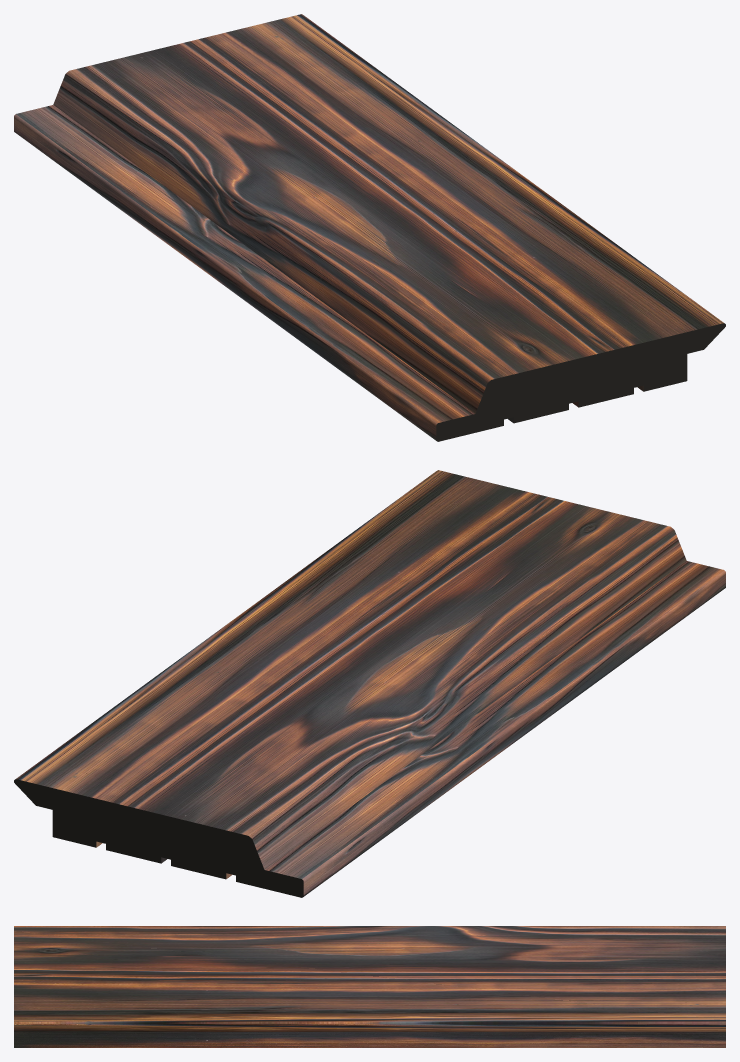
The model's file is larch-facade-half-tongue-45-black.glb.
The picture shows the model from 3 angles, top to bottom: view 1: azimuth 30°, elevation 25°; view 2: azimuth 150°, elevation 25°; view 3: azimuth 270°, elevation 25°; orthographic projection. The views are drawn at different scales.
Visible parts, largest first — view 1: Pusė_Špunto_45; view 2: Pusė_Špunto_45; view 3: Pusė_Špunto_45.
Part boxes in pixels (<box>): Pusė_Špunto_45: <box>14,14,725,441</box>; Pusė_Špunto_45: <box>14,470,725,897</box>; Pusė_Špunto_45: <box>14,926,725,1047</box>.
Bounding box in the file's own units: 0.0723 × 0.0117 × 0.1826.
3 materials, 1 textured.
